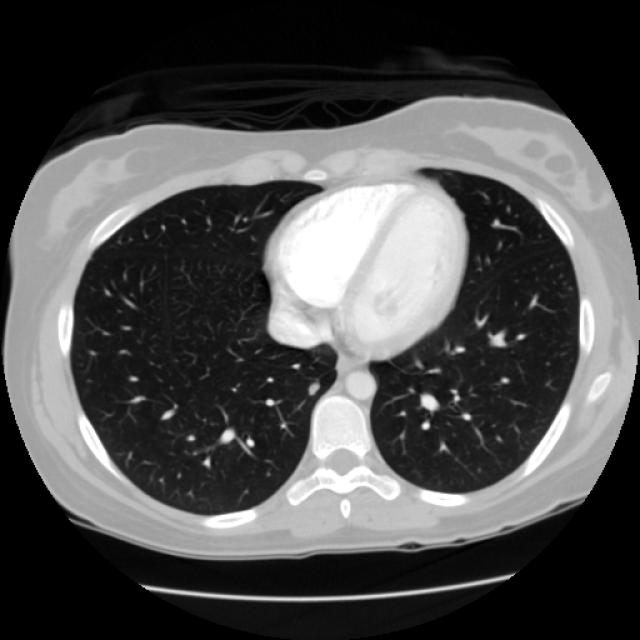nodule: (296, 370, 329, 402)
